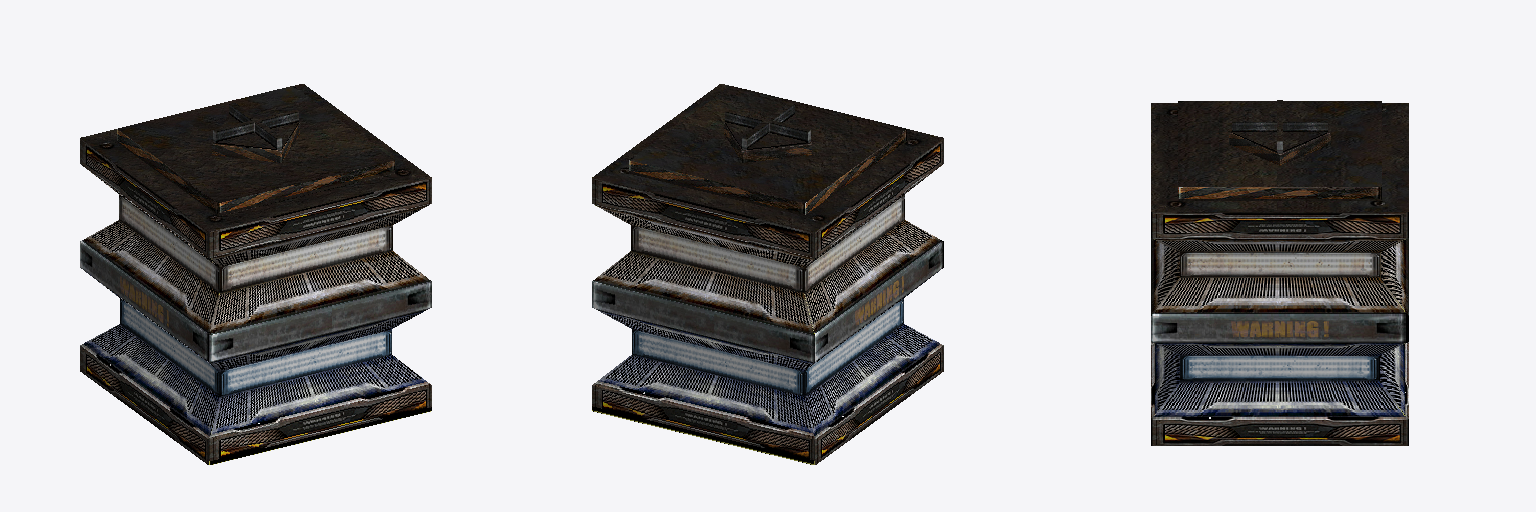
3 renders of one model, left to right at view 1: azimuth 30°, elevation 25°; view 2: azimuth 150°, elevation 25°; view 3: azimuth 270°, elevation 25°, orthographic.
Parts seen in each view (by area): view 1: MSH_cube; view 2: MSH_cube; view 3: MSH_cube.
Part boxes in pixels (left/top/right/bottom): MSH_cube: left=80, top=84, right=431, bottom=464; MSH_cube: left=592, top=84, right=943, bottom=464; MSH_cube: left=1151, top=100, right=1408, bottom=445.
Size of the model in its own units: 8 by 9.27 by 8.
Materials: 1 (1 with a texture image).